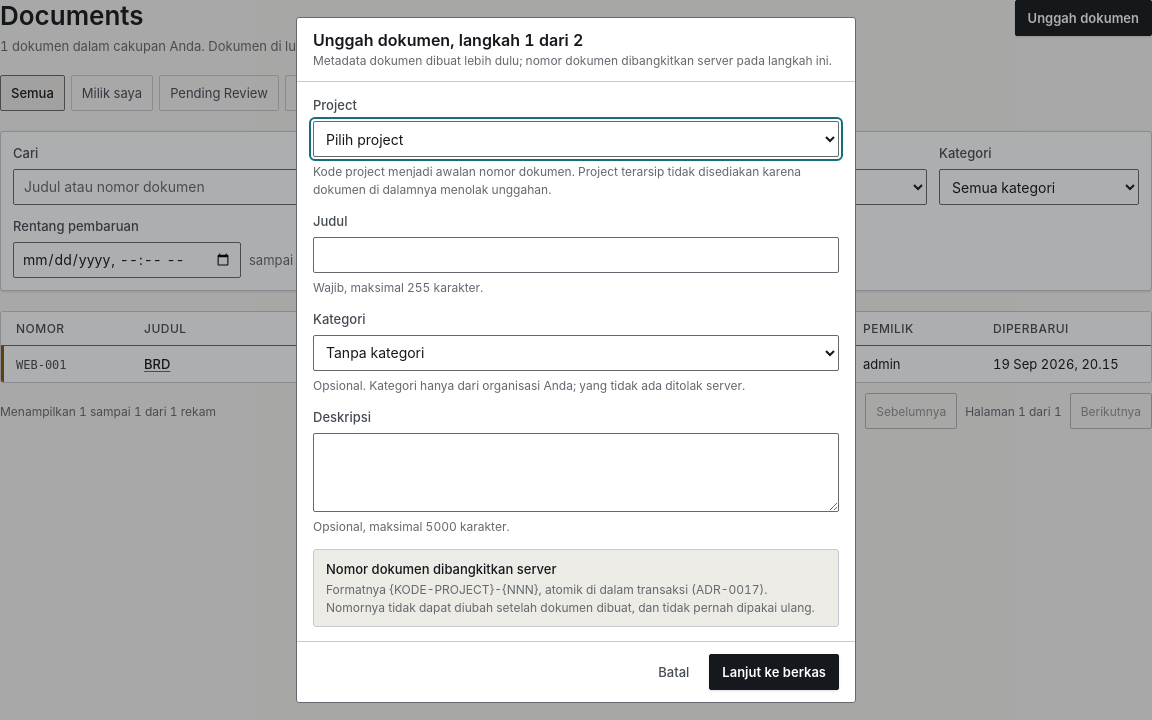
Test case: dialog unggah dokumen › menahan langkah 1 bila project dan judul belum diisi
What coordinates should you click on to do the following:
click the button "Lanjut ke berkas"
I would click on:
 (774, 672)
Its box is [709,654,839,690].
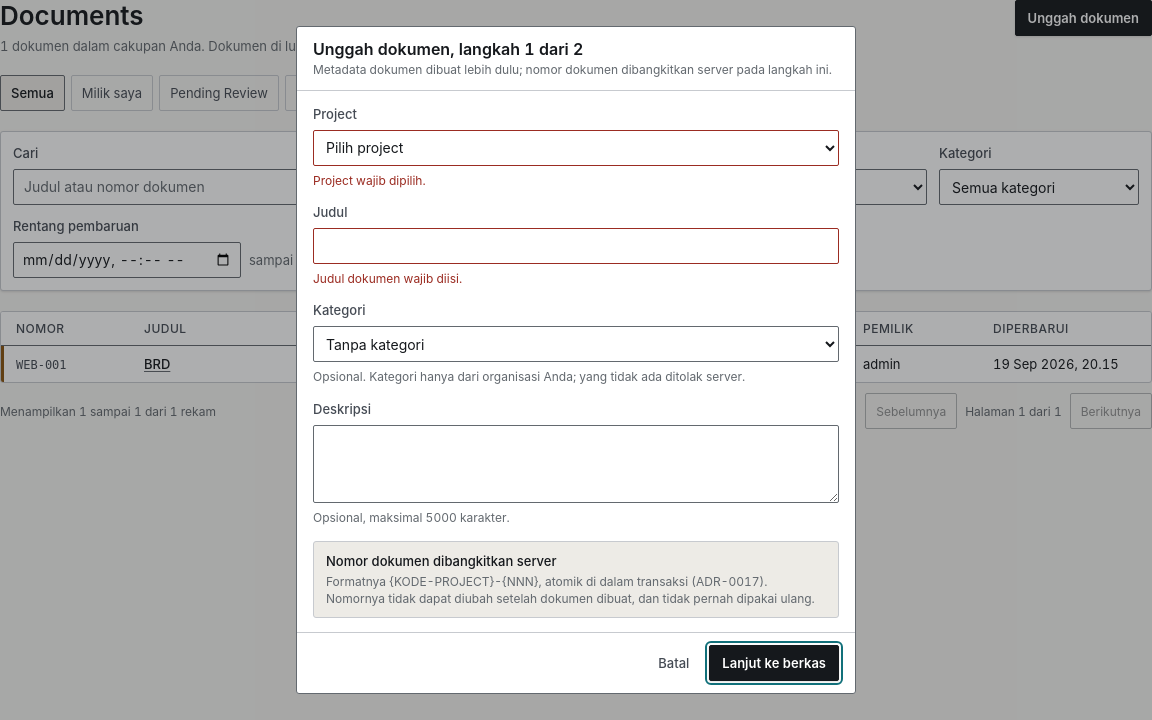
Check: the text "Project wajib dipilih." is shown, box [313,173,426,188]
Check: the text "Judul dokumen wajib diisi." is shown, box [313,271,462,286]
